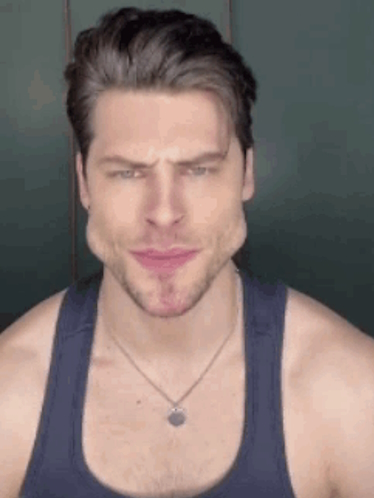mewing: (71, 41, 256, 319)
